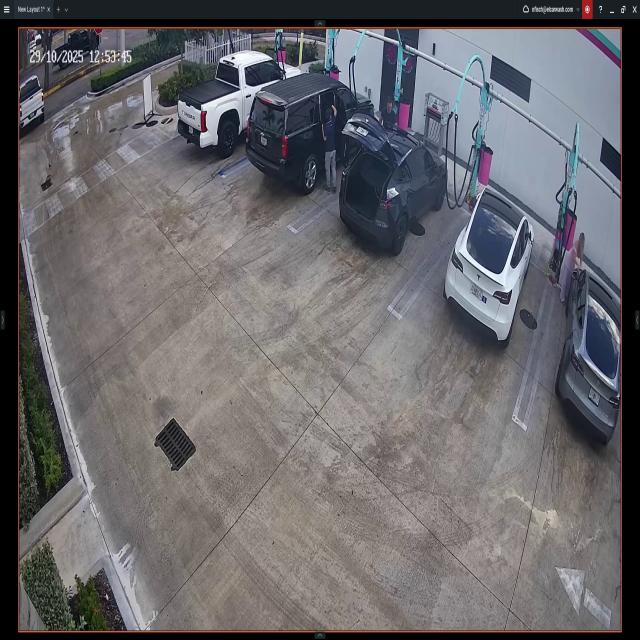Car: (248, 73, 374, 193), (341, 114, 448, 253), (446, 188, 534, 344), (178, 48, 302, 158), (557, 262, 618, 442), (20, 77, 44, 132)
